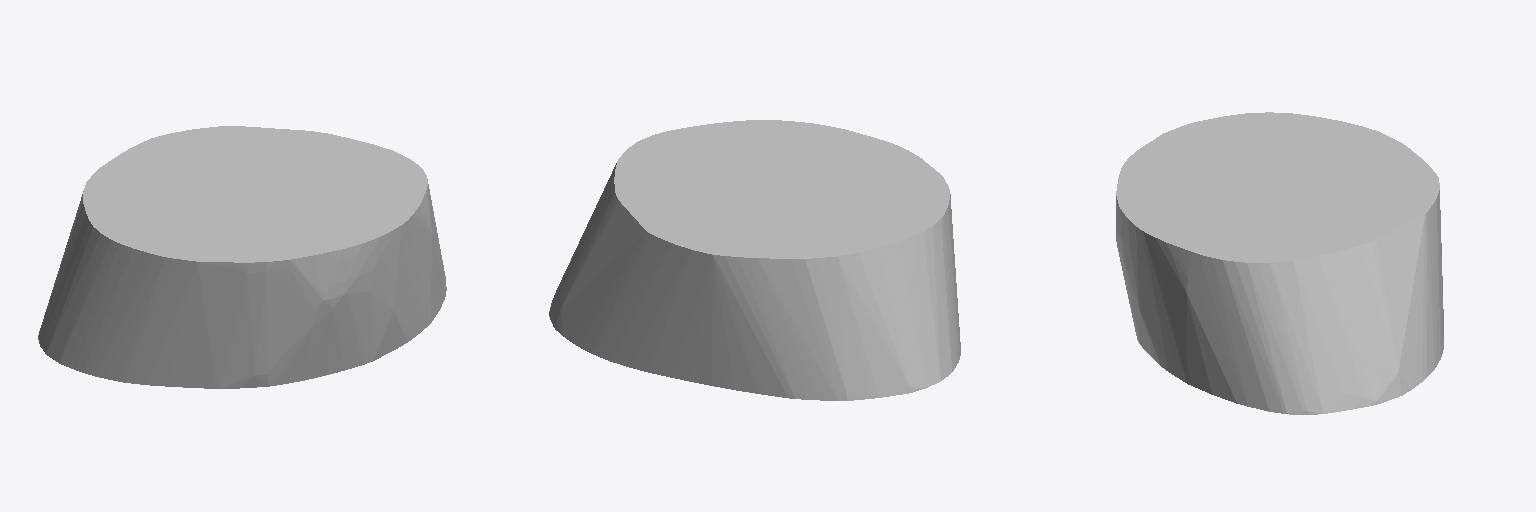
Rendered from woman_collision_9.obj.
3 renders of one model, left to right at view 1: azimuth 30°, elevation 25°; view 2: azimuth 150°, elevation 25°; view 3: azimuth 270°, elevation 25°, orthographic.
Bounding box in the file's own units: 34.26 × 11.2 × 25.48.